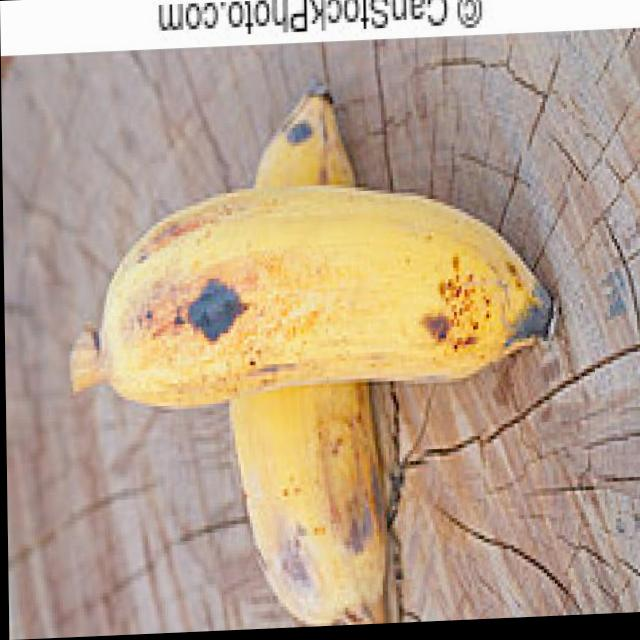banana: (61, 165, 566, 416), (203, 68, 399, 631)
